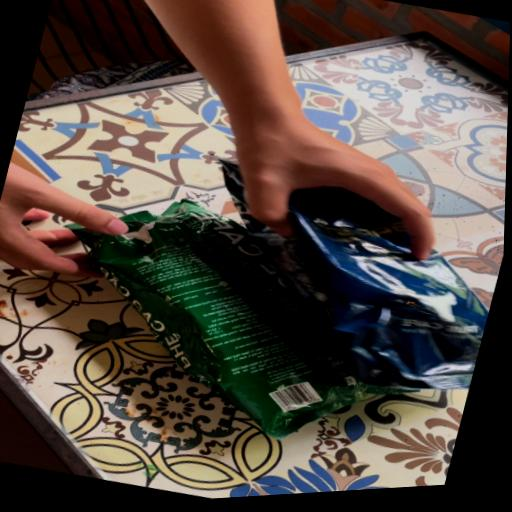cafe_hat: (221, 162, 489, 390)
cafe_xay: (68, 200, 357, 439)
